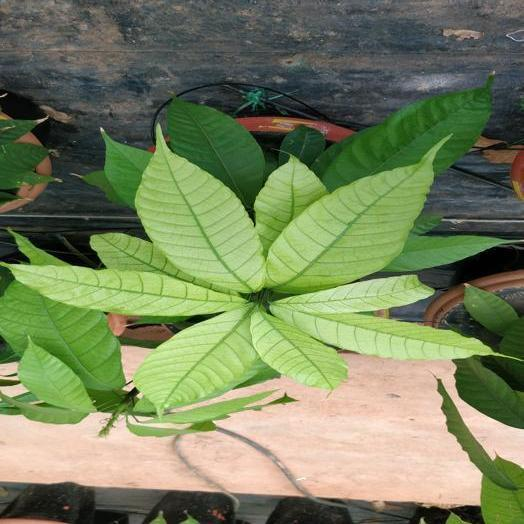Healthy Leaf: (322, 76, 492, 189), (0, 280, 123, 389), (167, 97, 265, 209), (437, 379, 515, 489), (19, 338, 95, 412), (455, 359, 523, 428), (383, 235, 508, 272), (146, 390, 275, 423), (102, 130, 151, 207), (481, 458, 523, 523), (0, 392, 86, 423), (465, 285, 518, 334), (280, 125, 325, 165), (127, 422, 214, 436)
Iron: (267, 135, 450, 292), (136, 127, 264, 292), (134, 306, 257, 413), (2, 263, 246, 315), (271, 306, 491, 359), (251, 309, 346, 389), (91, 233, 224, 290), (255, 155, 326, 254), (273, 275, 433, 314)
